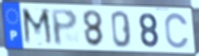0: (110, 10, 132, 50)
8: (82, 9, 106, 49), (138, 12, 161, 48)
C: (163, 12, 190, 50)
M: (20, 7, 56, 48)
P: (49, 8, 79, 48)
